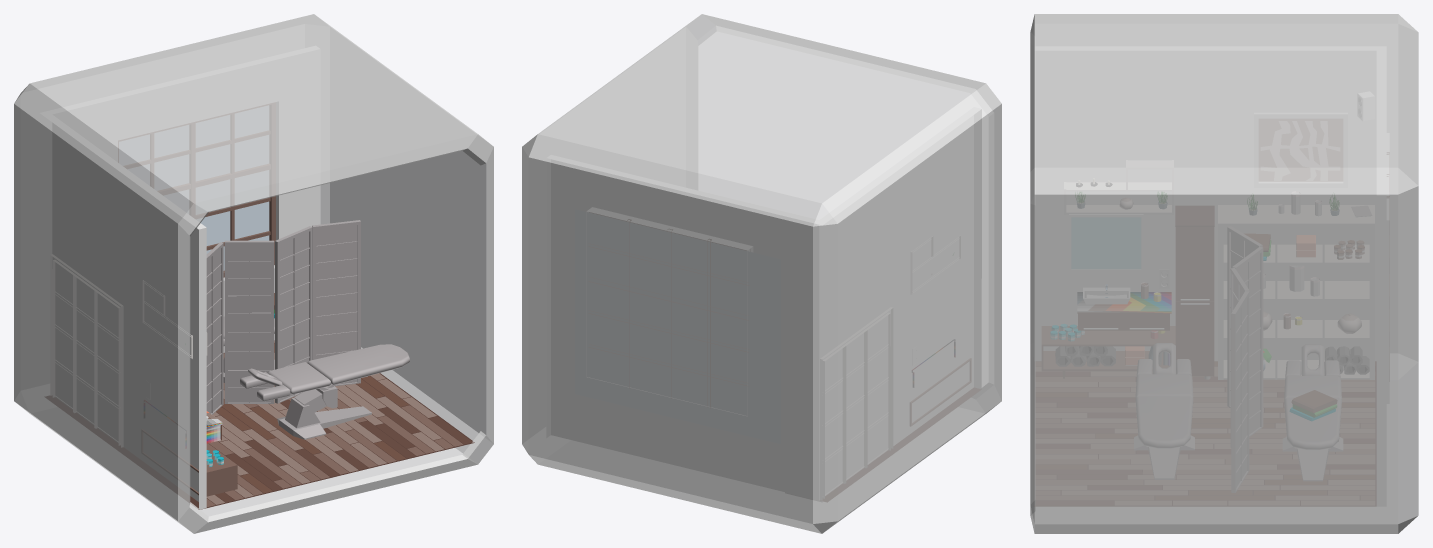
Rendered from dentist.glb.
The picture shows the model from 3 angles, left to right: view 1: azimuth 30°, elevation 25°; view 2: azimuth 150°, elevation 25°; view 3: azimuth 270°, elevation 25°; orthographic projection. The views are drawn at different scales.
Parts seen in each view (by area): view 1: Cube.007, low_poly_interior.7981; view 2: Cube.007, low_poly_interior.7981; view 3: Cube.007, low_poly_interior.7981.
Boxes of the visible parts, x1,y1,x2,y2 form: Cube.007: (14,14,493,533); low_poly_interior.7981: (41,46,474,509); Cube.007: (522,14,1001,533); low_poly_interior.7981: (547,107,981,501); Cube.007: (1030,14,1418,533); low_poly_interior.7981: (1035,47,1389,505).
Bounding box in the file's own units: 2 × 2 × 1.92.
Materials: 2 (1 with a texture image).
